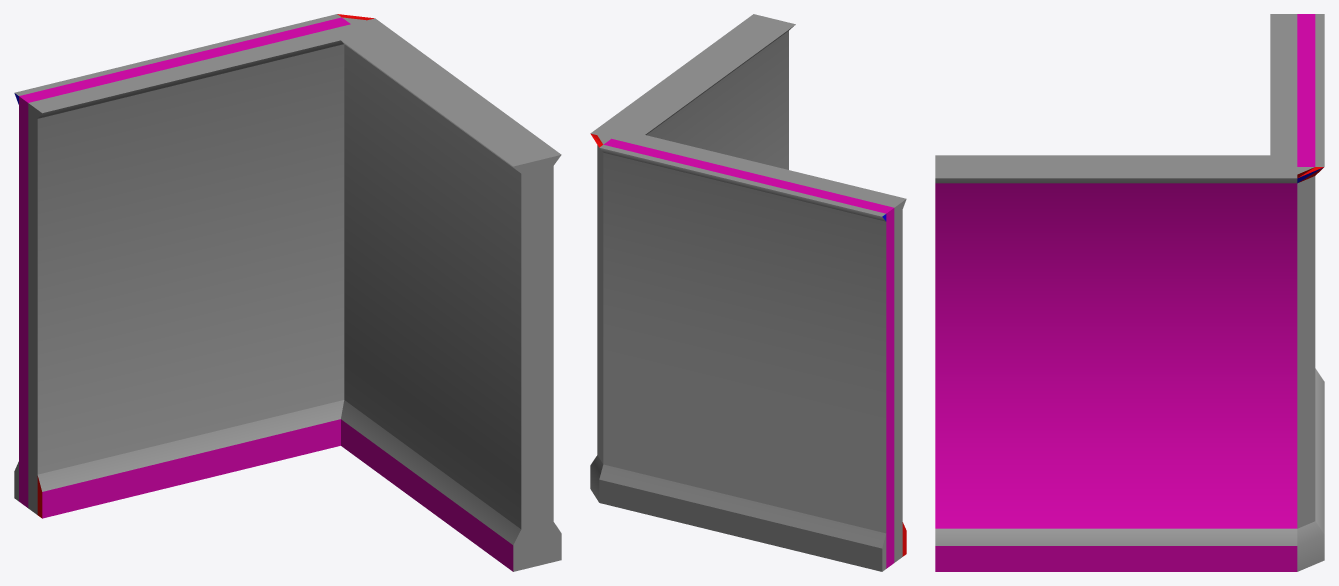
File: ModularWallCorner_Inner_MES.FBX
3 views of the same model, side by side, from view 1: azimuth 30°, elevation 25°; view 2: azimuth 150°, elevation 25°; view 3: azimuth 270°, elevation 25° (orthographic). The views are drawn at different scales.
Visible parts, largest first — view 1: ModularWall004; view 2: ModularWall004; view 3: ModularWall004.
Boxes of the visible parts, box(x1,y1,x2,y2) form: ModularWall004: box(14, 14, 561, 571); ModularWall004: box(590, 14, 906, 571); ModularWall004: box(935, 14, 1324, 571).
Bounding box in the file's own units: 108 × 120 × 108.
